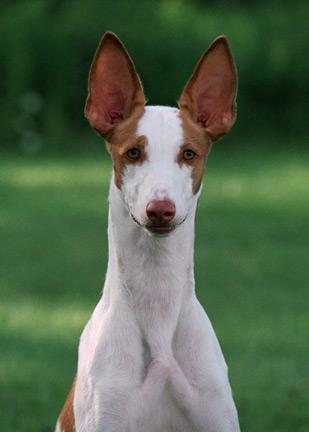Ibizan_hound: (55, 28, 244, 430)
